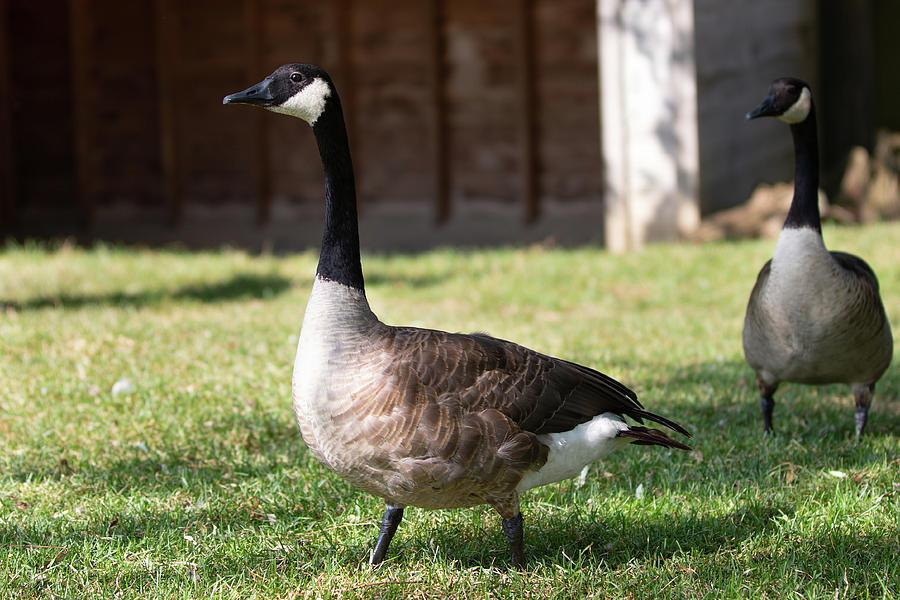Canadian-Goose: (224, 63, 686, 567), (739, 77, 894, 447)
